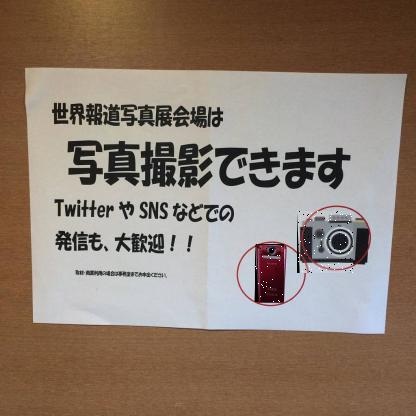Camera: (298, 212, 355, 275), (256, 245, 286, 304)
